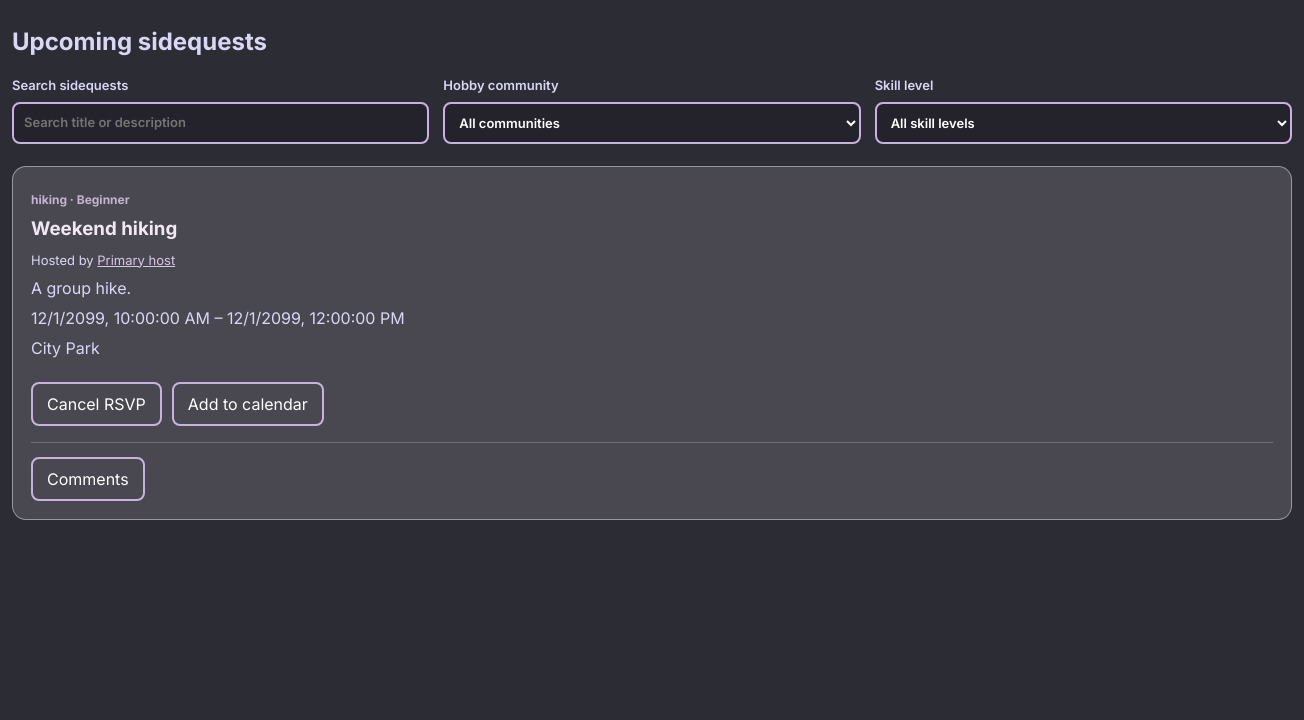
missing scope preserves attendance and leaves calendar addition available
This screenshot has width=1304, height=720.
Step 1. Click the button "Add to calendar" → point(248, 404), box top-left (172, 382), bottom-right (324, 426)
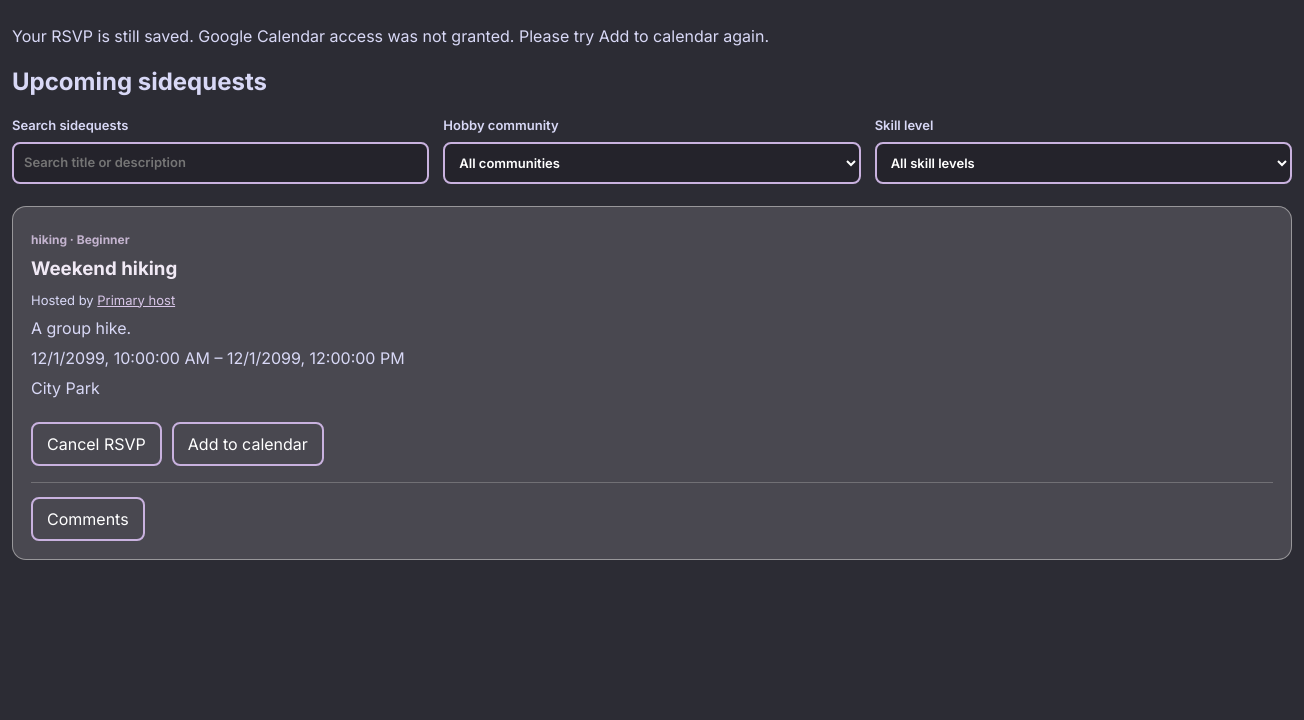
Expected: the button "Cancel RSVP" is shown, top-left (31, 422), bottom-right (162, 466)
Expected: the message shows "Google Calendar access was not granted.", top-left (12, 26), bottom-right (769, 46)
